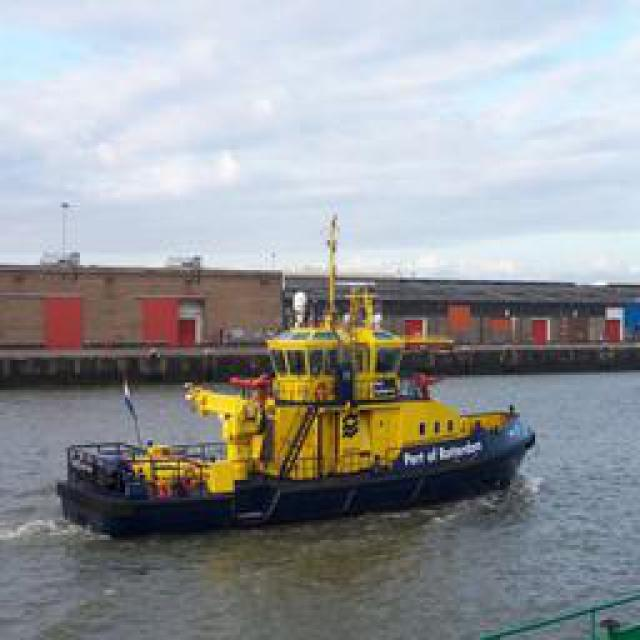Ship: (56, 304, 529, 539)
